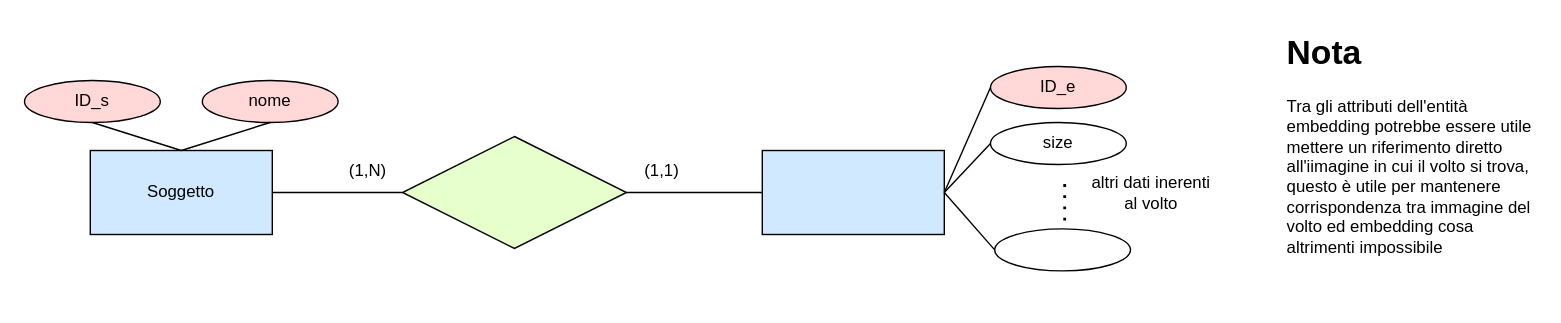
Image size: 1561x323. Some labels were removed from this diagram. Each missing label, with the box of its shape:
Emdedding: (761, 149, 944, 234)
Soggetto_Embedding: (401, 135, 626, 248)
